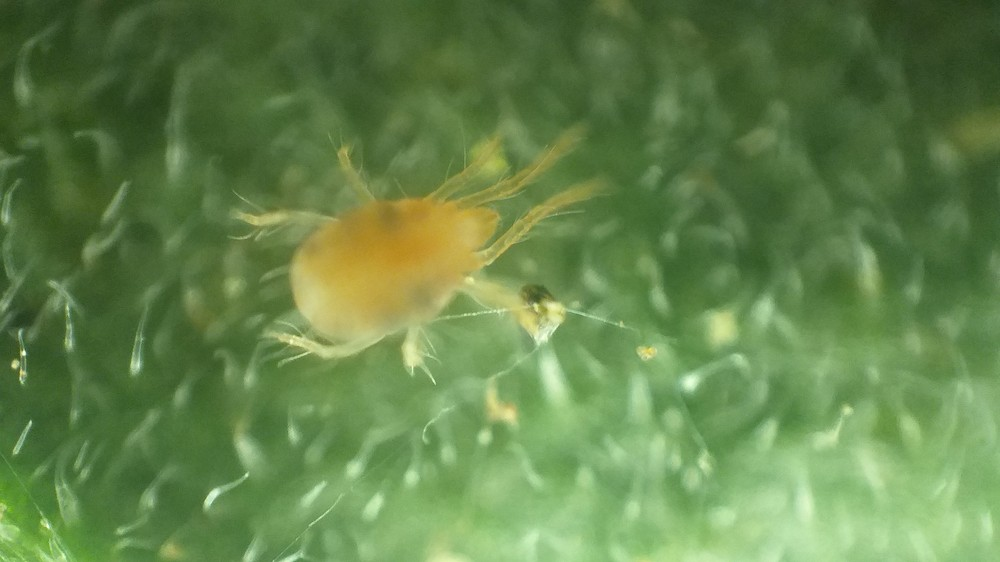Aracnido Rojo: (223, 124, 652, 396)
